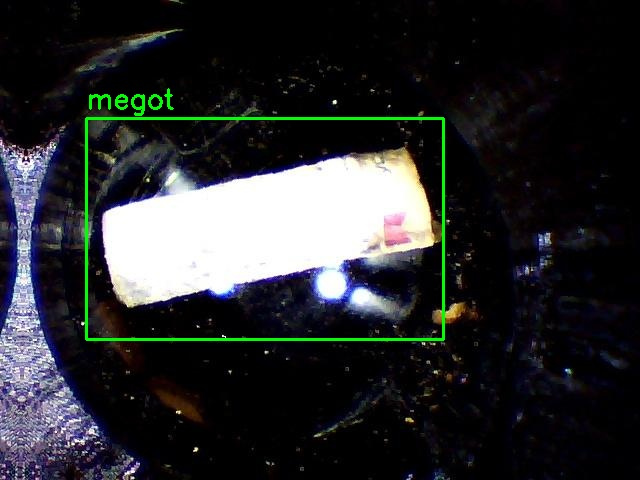megot: (86, 118, 443, 339)
